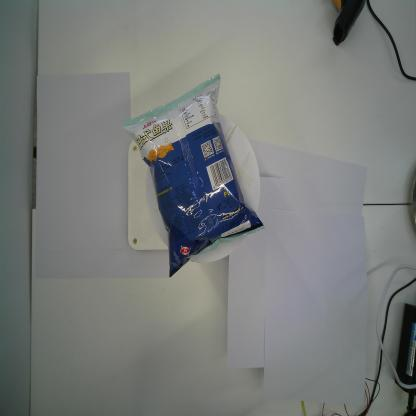Puffed Food: (122, 72, 265, 278)
